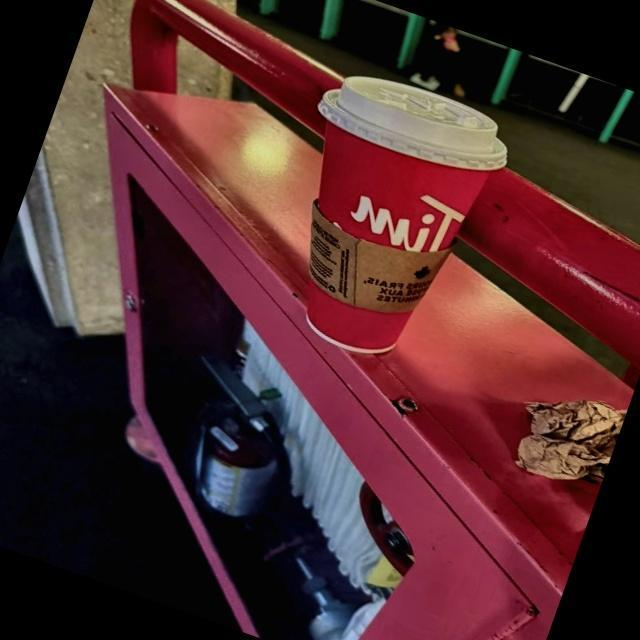timmies: (300, 63, 511, 360)
